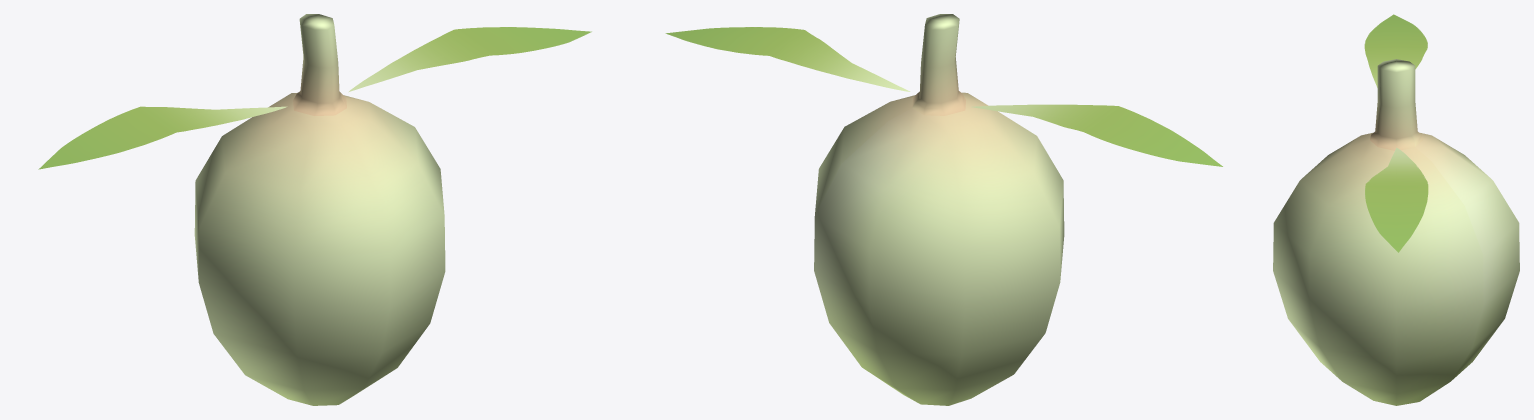
The model's file is blasam_bomb_model.fbx.
3 renders of one model, left to right at view 1: azimuth 30°, elevation 25°; view 2: azimuth 150°, elevation 25°; view 3: azimuth 270°, elevation 25°, orthographic. The views are drawn at different scales.
Parts seen in each view (by area): view 1: bomb_seed; view 2: bomb_seed; view 3: bomb_seed.
Boxes of the visible parts, x1=… form: bomb_seed: x1=38, y1=14, x2=591, y2=405; bomb_seed: x1=665, y1=14, x2=1222, y2=405; bomb_seed: x1=1273, y1=14, x2=1519, y2=405.
Size of the model in its own units: 5.08 by 3.32 by 2.21.
